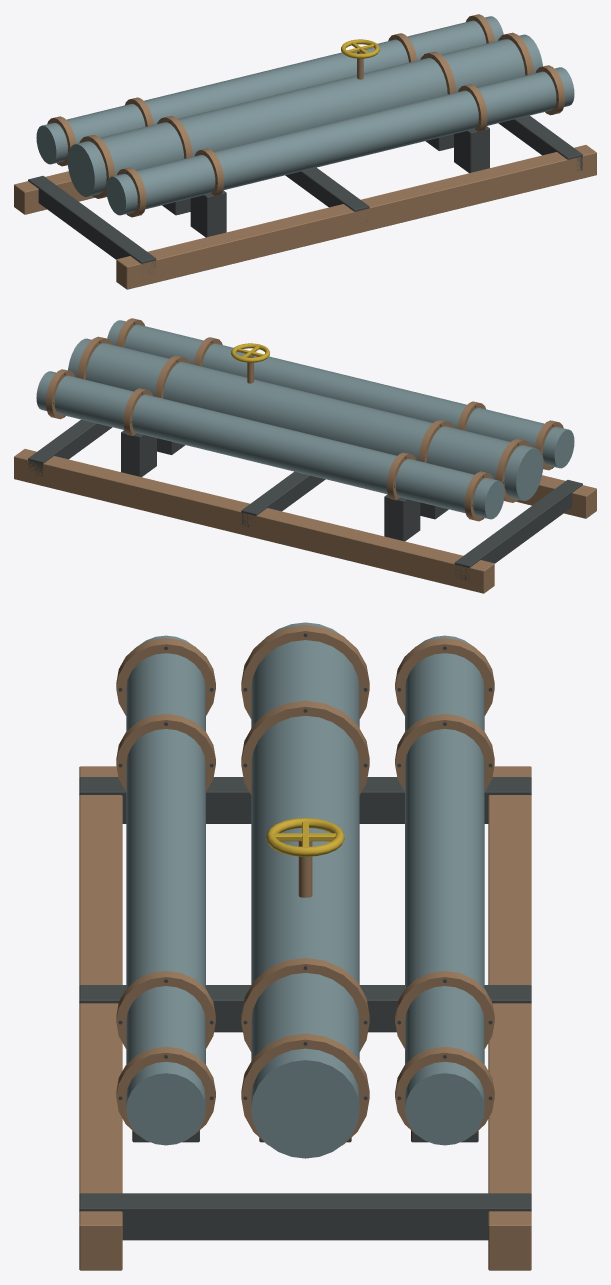
Rendered from SM_LS_PipeSkid.fbx.
3 renders of one model, top to bottom at view 1: azimuth 30°, elevation 25°; view 2: azimuth 150°, elevation 25°; view 3: azimuth 270°, elevation 25°, orthographic. The views are drawn at different scales.
Parts seen in each view (by area): view 1: SM_LS_PipeSkid; view 2: SM_LS_PipeSkid; view 3: SM_LS_PipeSkid.
Boxes of the visible parts, x1,y1,x2,y2 form: SM_LS_PipeSkid: [14, 14, 596, 289]; SM_LS_PipeSkid: [14, 318, 596, 593]; SM_LS_PipeSkid: [79, 622, 531, 1270].
Size of what is drawn, in the model's own units: 6 by 2.5 by 1.6.
